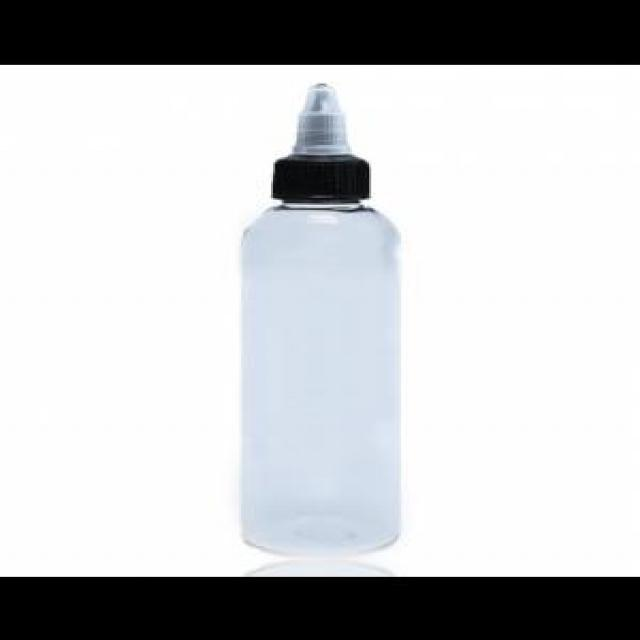metel: (243, 91, 410, 548)
